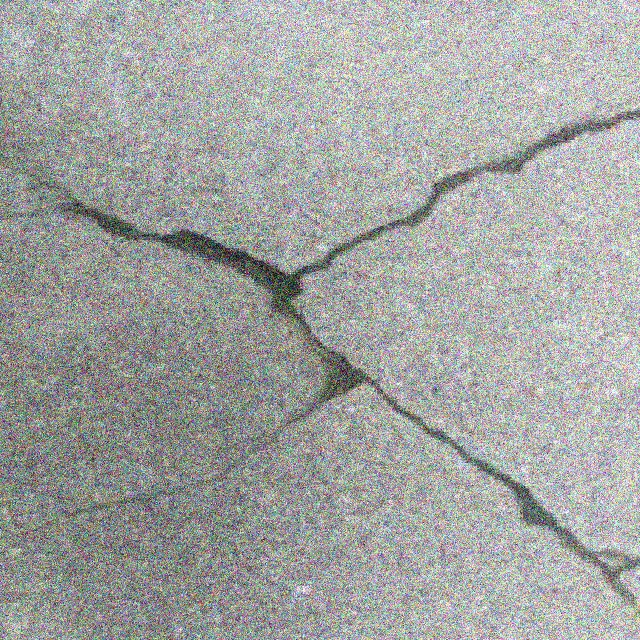SurfaceCrack: (4, 96, 640, 592)
